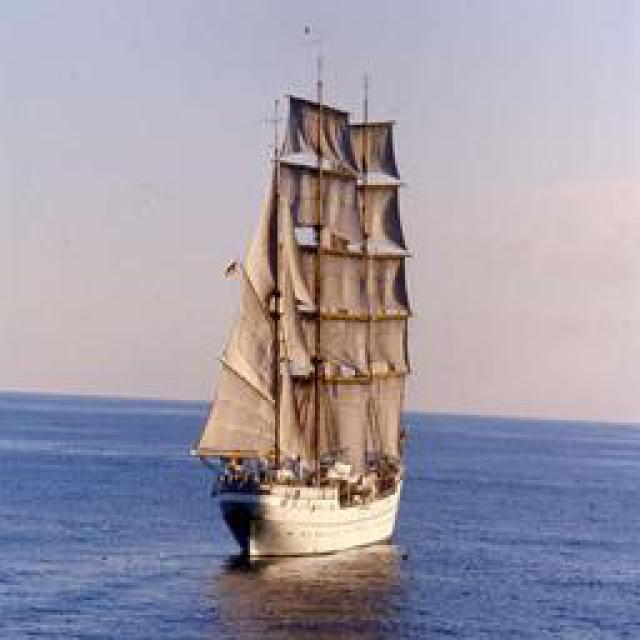Ship: (187, 24, 464, 570)
